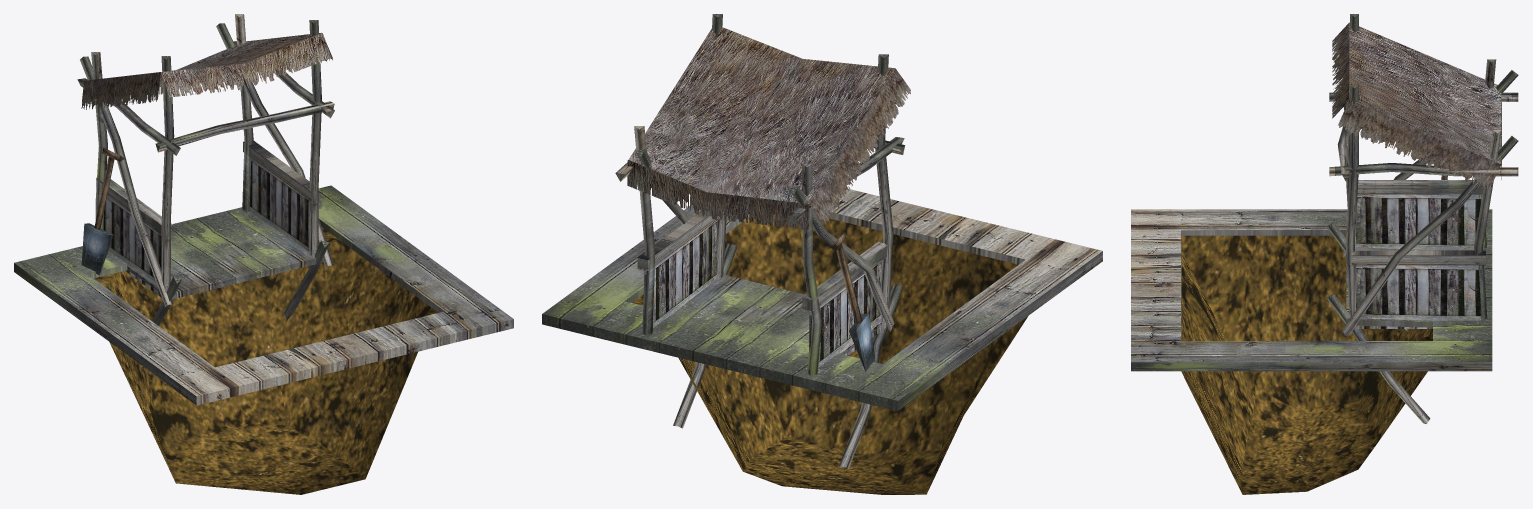
The model's file is building_gong_farm.glb.
3 views of the same model, side by side, from view 1: azimuth 30°, elevation 25°; view 2: azimuth 150°, elevation 25°; view 3: azimuth 270°, elevation 25° (orthographic). The views are drawn at different scales.
Parts seen in each view (by area): view 1: building_gong_farm; view 2: building_gong_farm; view 3: building_gong_farm.
Boxes of the visible parts, left/top/right/bottom form: building_gong_farm: left=14, top=14, right=513, bottom=494; building_gong_farm: left=542, top=14, right=1102, bottom=494; building_gong_farm: left=1131, top=14, right=1518, bottom=494.
Size of the model in its own units: 4.12 by 5.16 by 4.41.
Materials: 6 (6 with a texture image).
